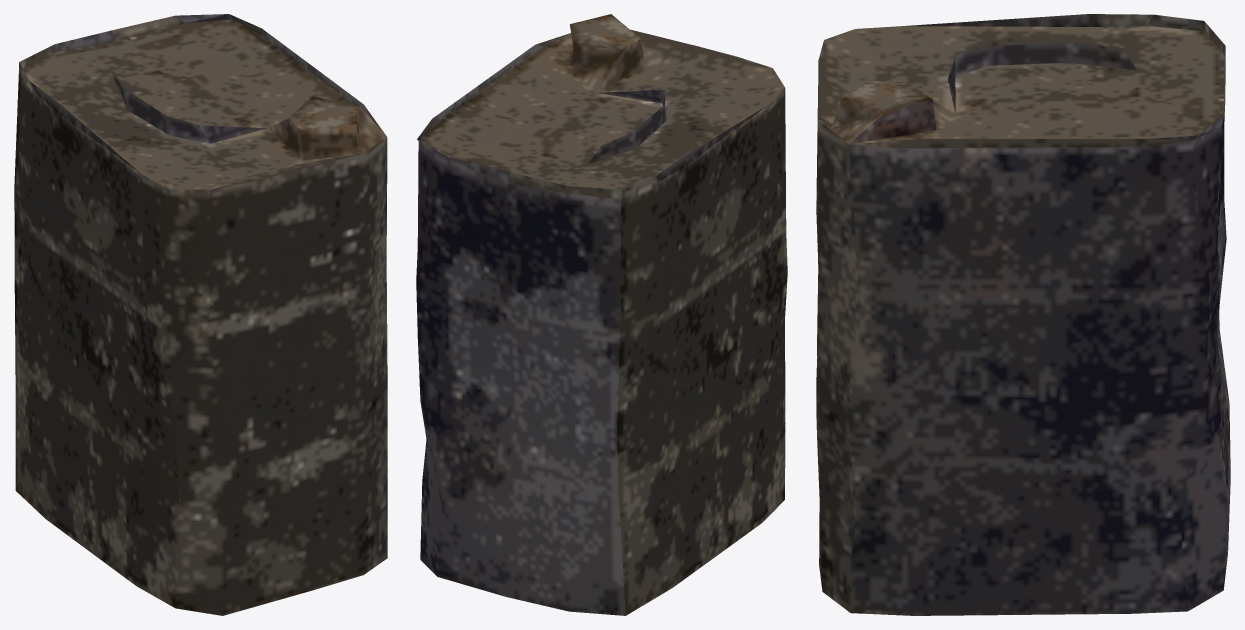
Rendered from oil_tin.glb.
3 views of the same model, side by side, from view 1: azimuth 30°, elevation 25°; view 2: azimuth 150°, elevation 25°; view 3: azimuth 270°, elevation 25° (orthographic). The views are drawn at different scales.
Parts seen in each view (by area): view 1: mesh; view 2: mesh; view 3: mesh.
Part boxes in pixels (x1=…): mesh: x1=14, y1=14, x2=387, y2=615; mesh: x1=416, y1=14, x2=787, y2=615; mesh: x1=816, y1=14, x2=1230, y2=615.
Size of the model in its own units: 0.1148 by 0.2054 by 0.1546.
1 material, 1 textured.
